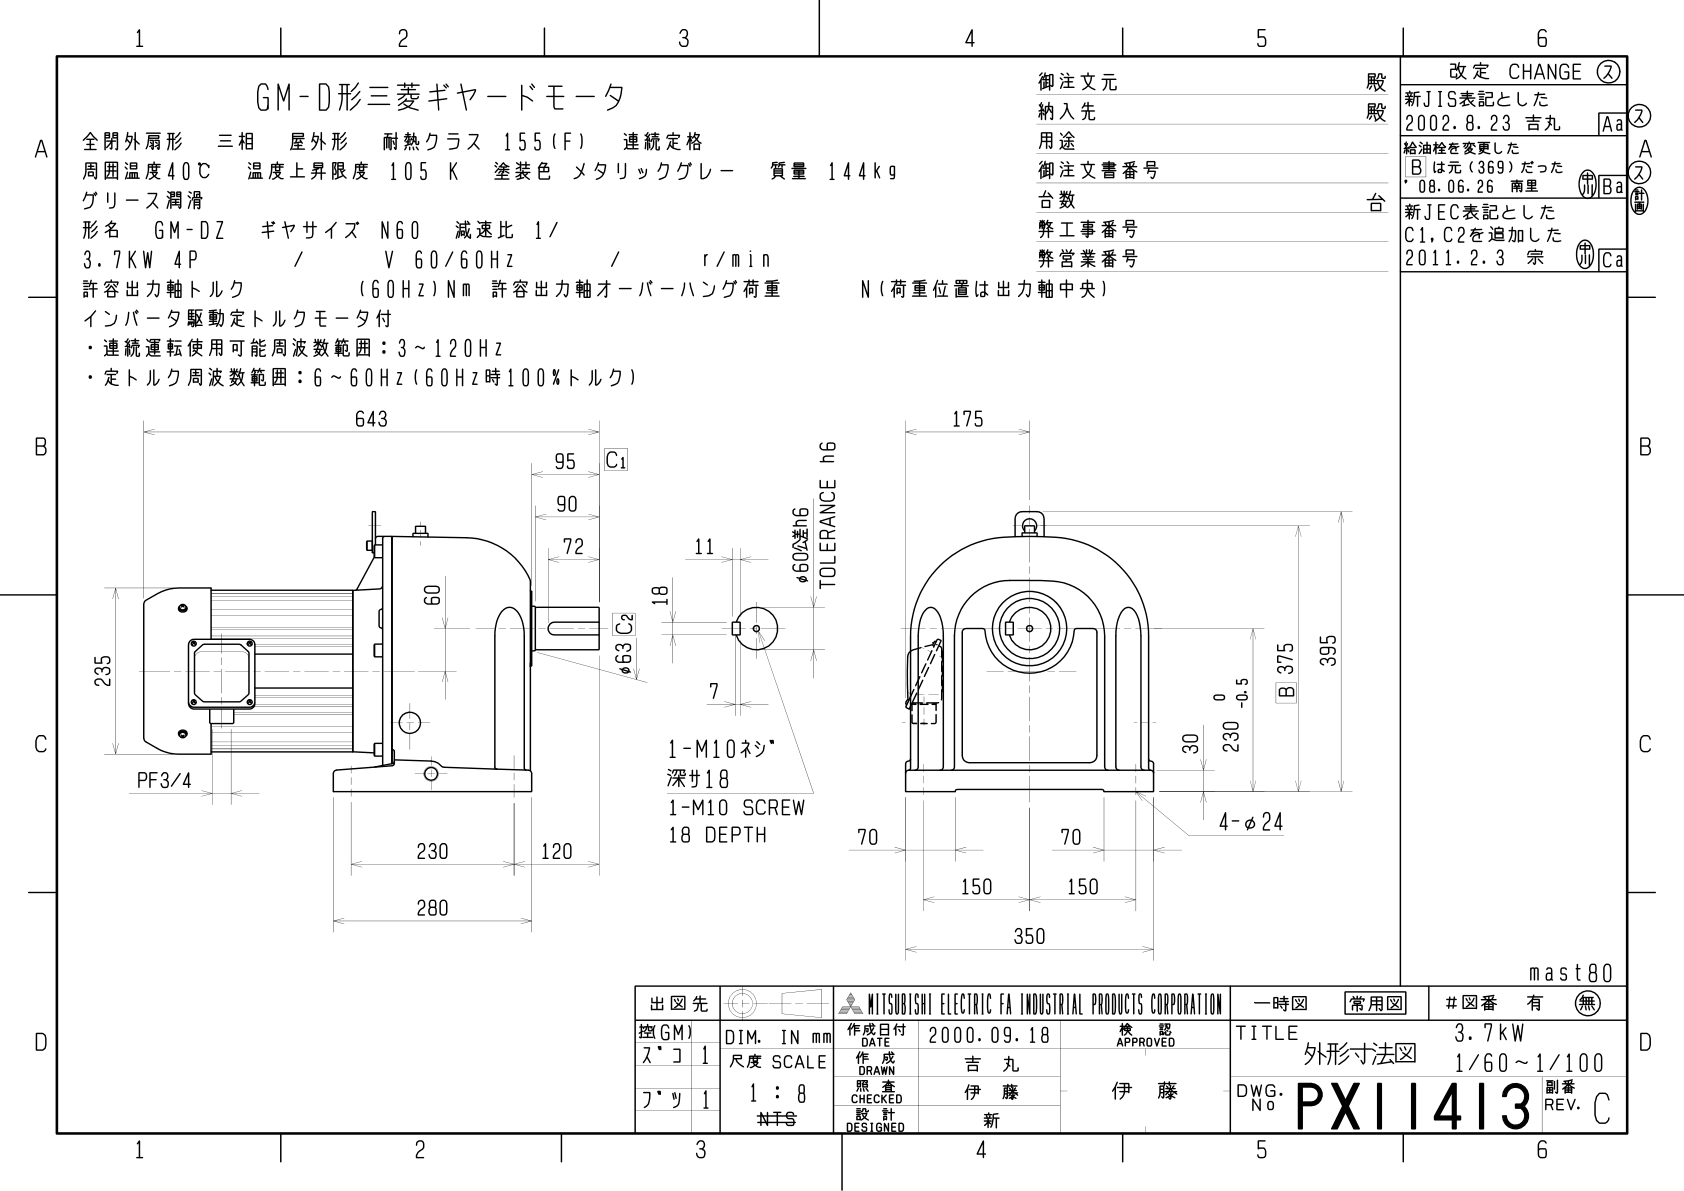GM_D_インバータ屋外_三相_脚: (71, 400, 1383, 963)
